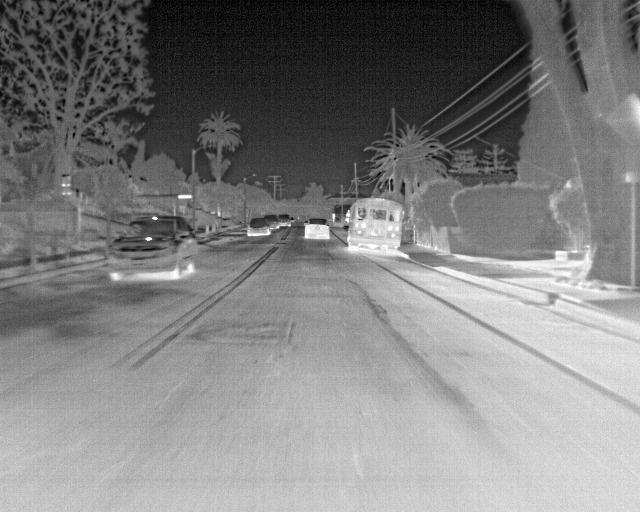car: (111, 213, 194, 280), (303, 218, 330, 239), (246, 217, 270, 237), (260, 214, 277, 228), (277, 213, 292, 227)
